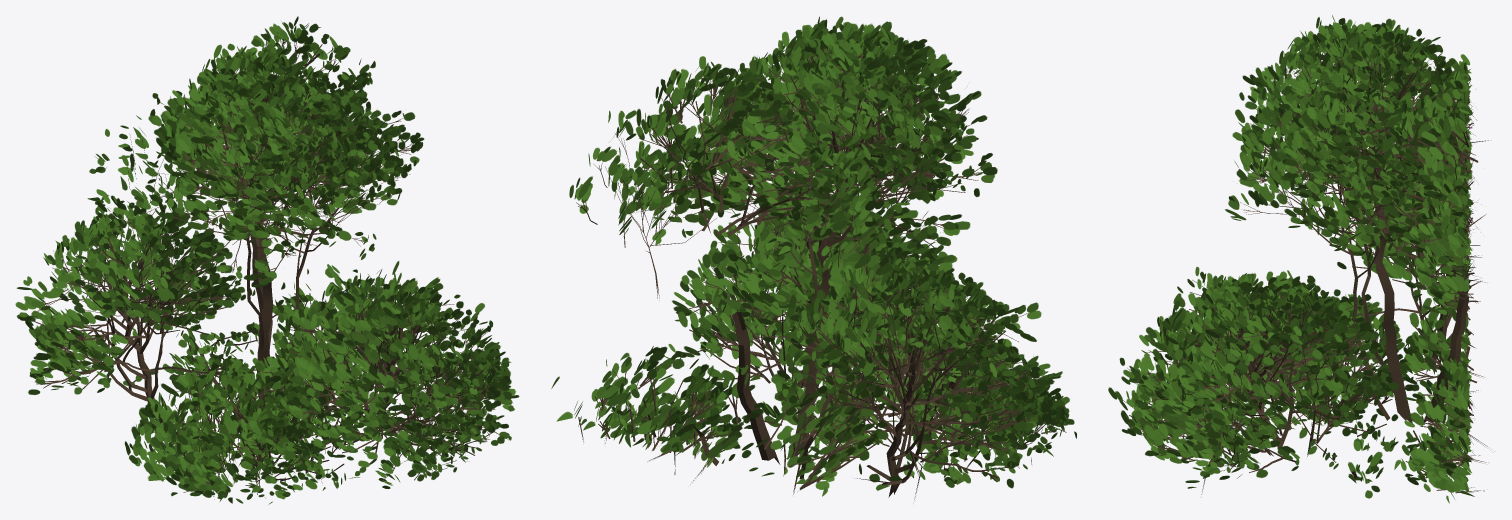
The picture shows the model from 3 angles, left to right: view 1: azimuth 30°, elevation 25°; view 2: azimuth 150°, elevation 25°; view 3: azimuth 270°, elevation 25°; orthographic projection. The views are drawn at different scales.
Visible parts, largest first — view 1: oak 01.001_trunk_Mat.001_0.211; view 2: oak 01.001_trunk_Mat.001_0.211; view 3: oak 01.001_trunk_Mat.001_0.211.
Part boxes in pixels (x1=…): oak 01.001_trunk_Mat.001_0.211: x1=15, y1=16, x2=519, y2=504; oak 01.001_trunk_Mat.001_0.211: x1=551, y1=16, x2=1076, y2=499; oak 01.001_trunk_Mat.001_0.211: x1=1108, y1=15, x2=1488, y2=503.
Bounding box in the file's own units: 4.1 × 3.63 × 3.19.
Materials: 2 (1 with a texture image).
